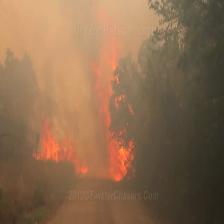fire: (89, 34, 137, 184), (34, 120, 91, 176)
